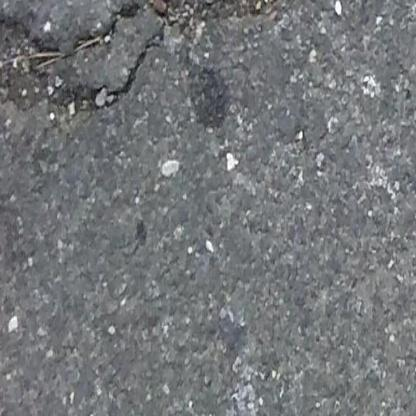Cracks: (0, 0, 222, 150), (120, 0, 345, 42)
